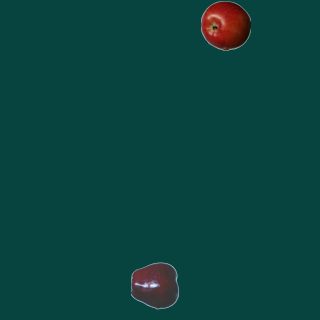Apple Braeburn: (200, 0, 250, 50)
Apple Red Delicious: (130, 260, 180, 310)
